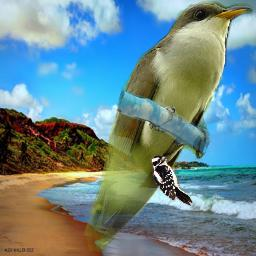Cuckoo: (82, 1, 253, 252)
Woodpecker: (151, 155, 193, 207)
